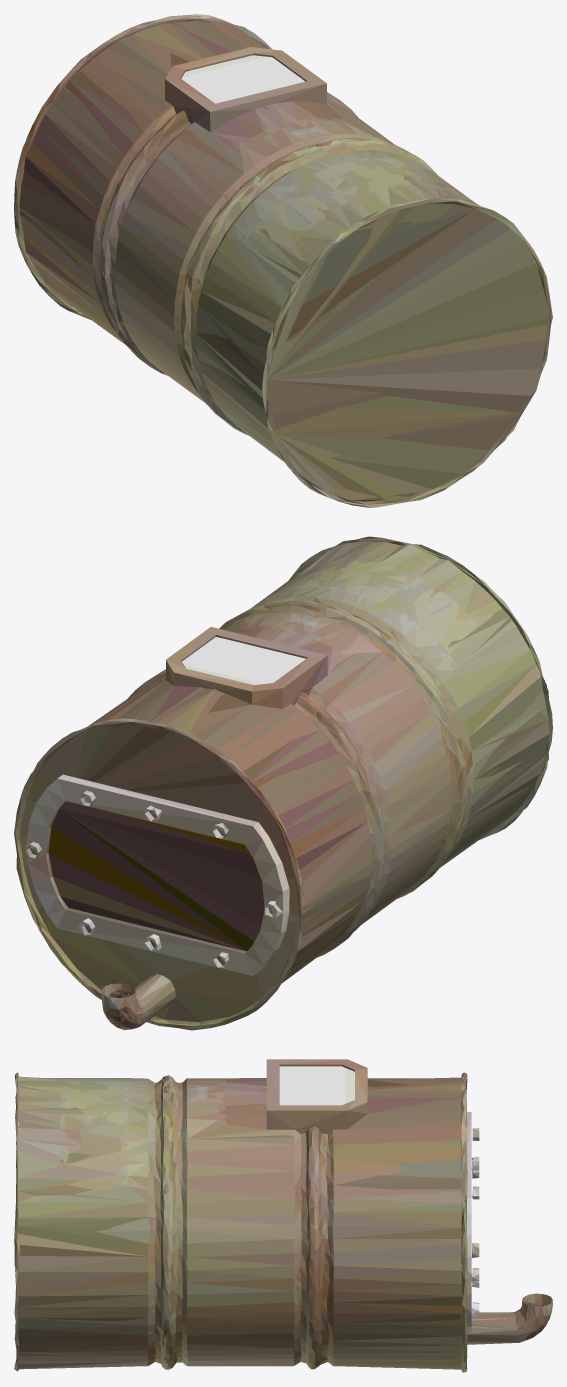
File: drum.dae
The picture shows the model from 3 angles, top to bottom: view 1: azimuth 30°, elevation 25°; view 2: azimuth 150°, elevation 25°; view 3: azimuth 270°, elevation 25°; orthographic projection. The views are drawn at different scales.
Parts seen in each view (by area): view 1: drum; view 2: drum; view 3: drum.
Boxes of the visible parts, left/top/right/bottom form: drum: left=14, top=14, right=552, bottom=507; drum: left=14, top=536, right=552, bottom=1030; drum: left=14, top=1059, right=552, bottom=1372.
Bounding box in the file's own units: 0.5954 × 1.07 × 0.598.
